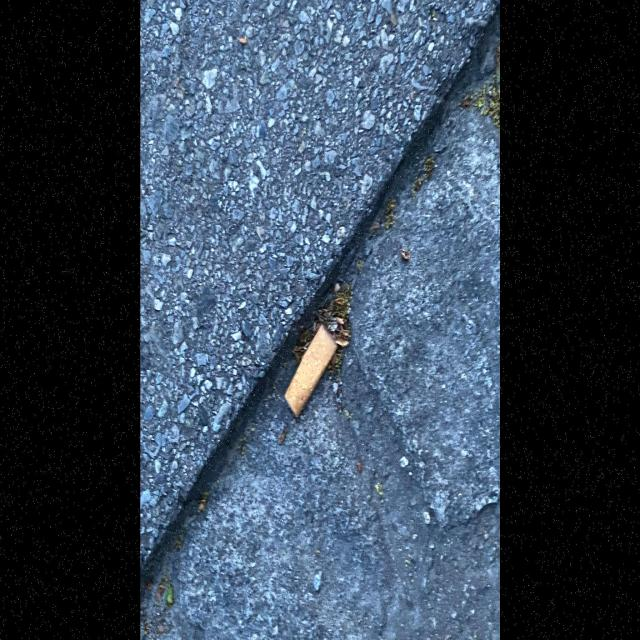other waste: (283, 323, 338, 419)
